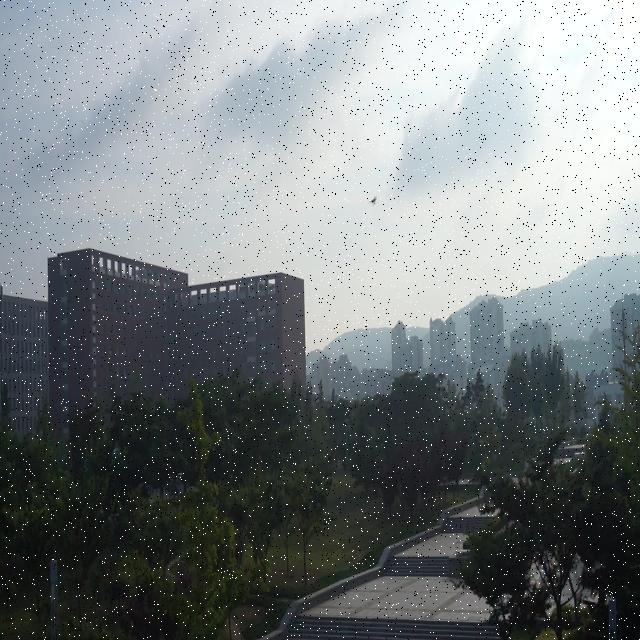UAV: (368, 195, 377, 206)
